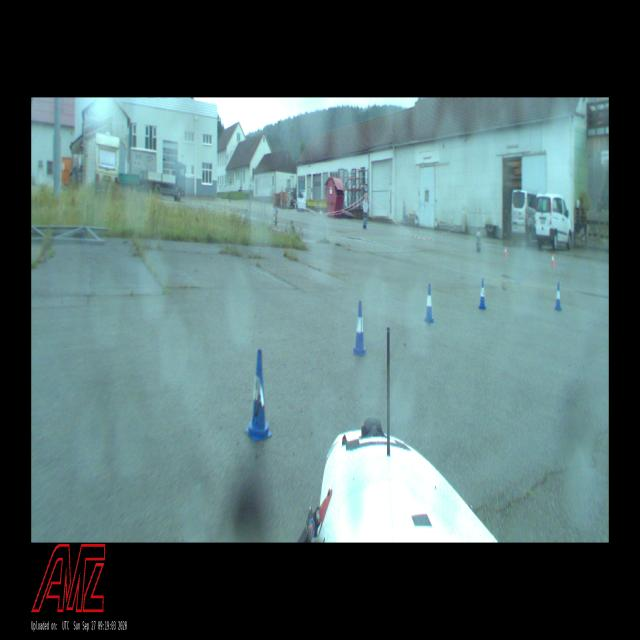blue_cone: (245, 348, 272, 444), (352, 302, 367, 356), (424, 284, 435, 324), (478, 278, 486, 308), (554, 282, 562, 311)
orange_cone: (504, 245, 508, 258), (552, 254, 554, 266)
